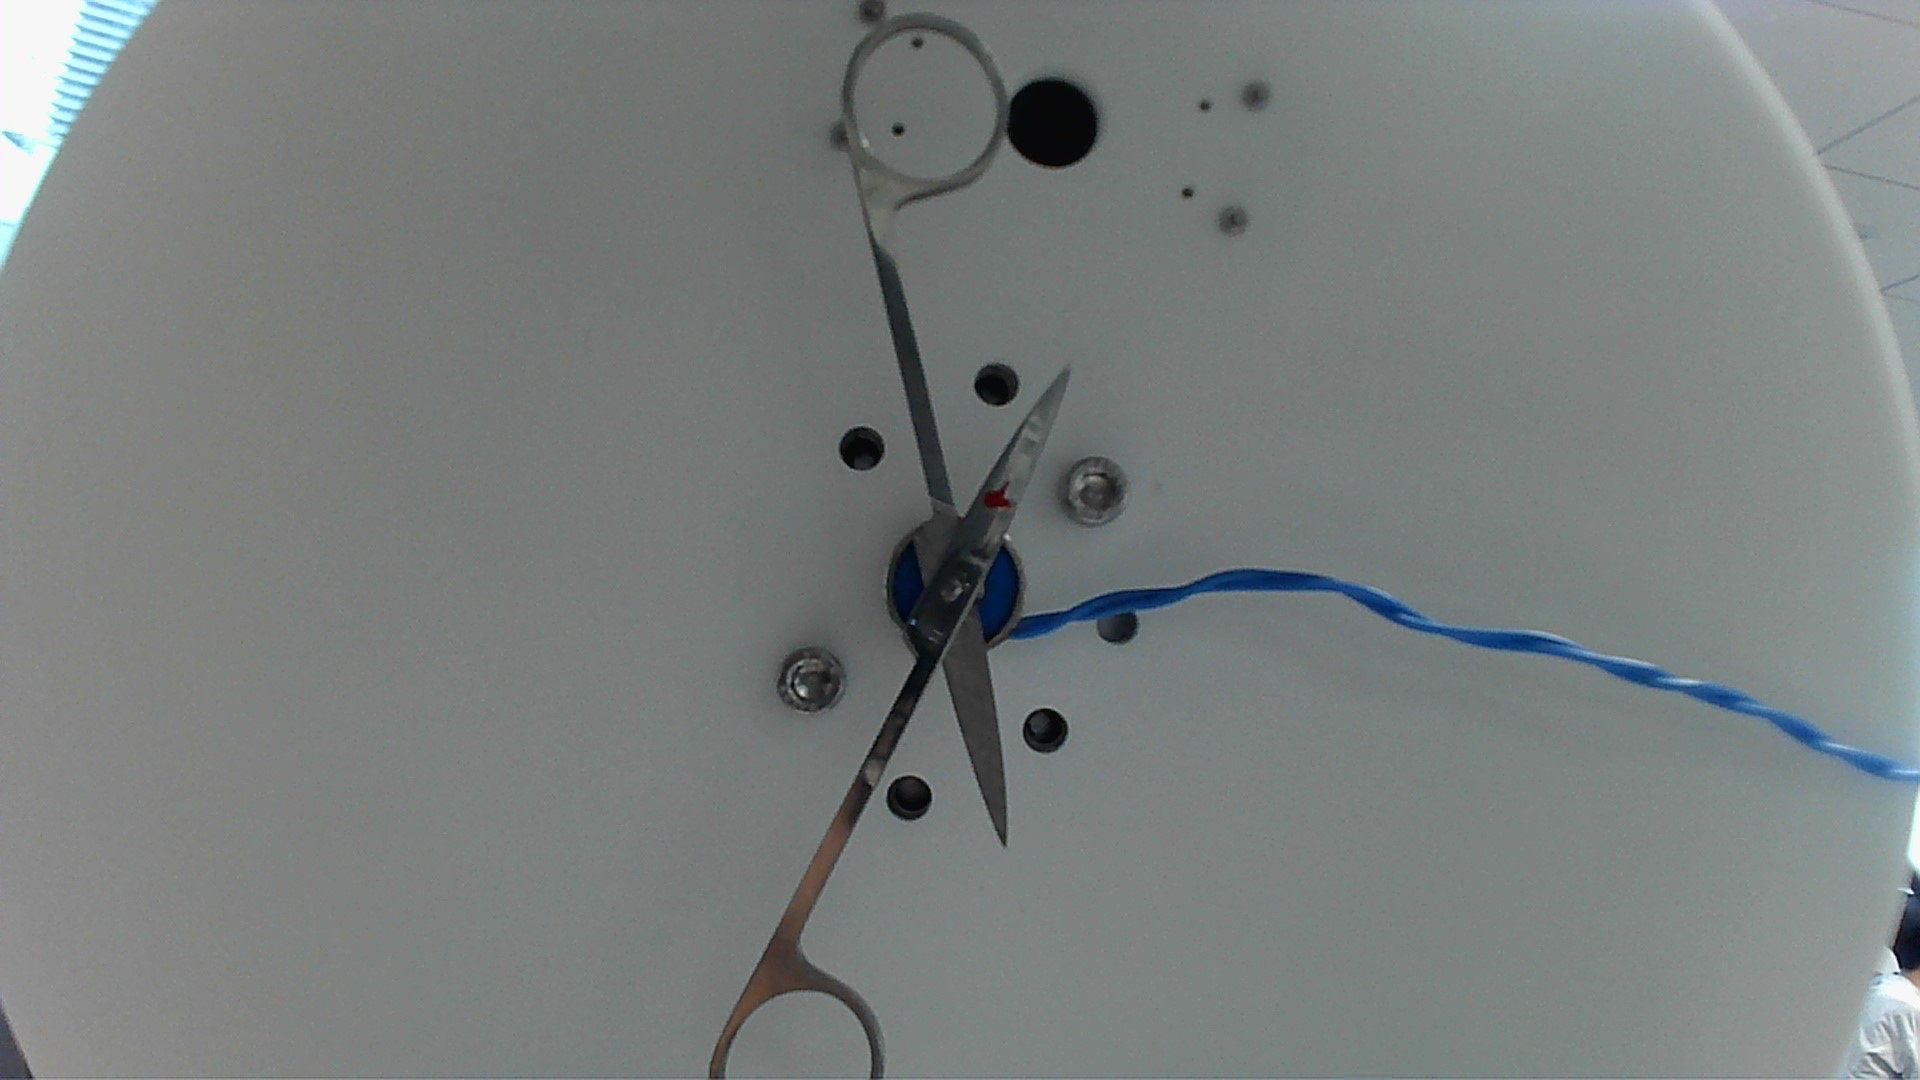Stain: (963, 480, 1025, 518)
